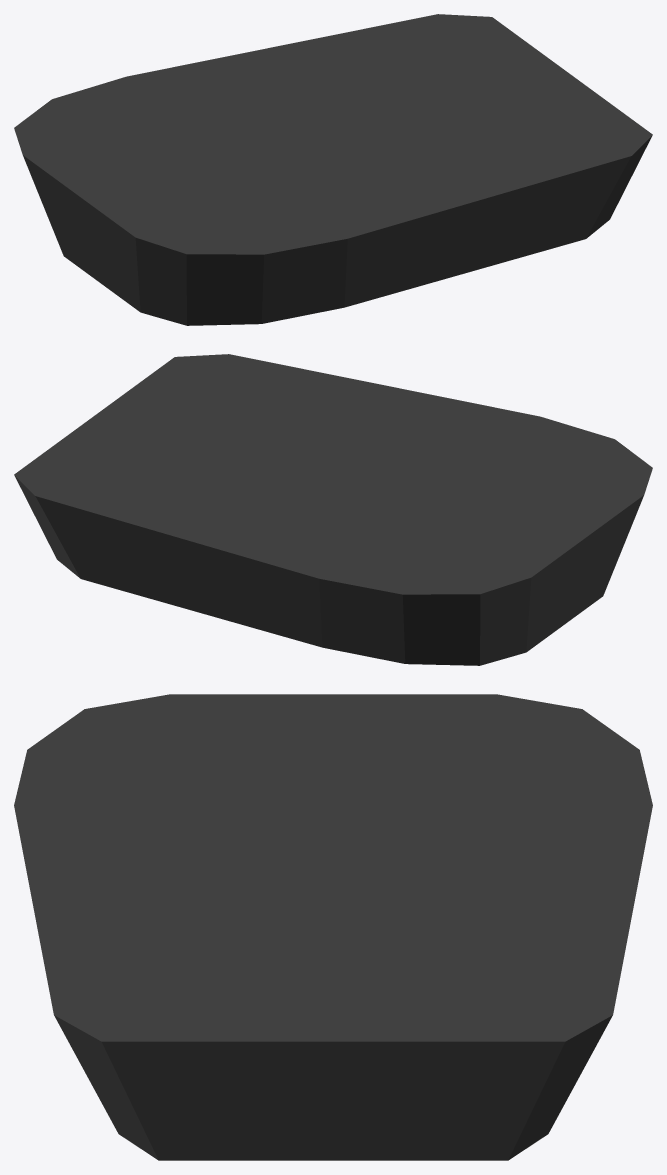
File: Exercise_Bike_Pedal_B.fbx
3 renders of one model, top to bottom at view 1: azimuth 30°, elevation 25°; view 2: azimuth 150°, elevation 25°; view 3: azimuth 270°, elevation 25°, orthographic. The views are drawn at different scales.
Parts seen in each view (by area): view 1: Exercise_Bike_Pedal_B; view 2: Exercise_Bike_Pedal_B; view 3: Exercise_Bike_Pedal_B.
Boxes of the visible parts, x1=… form: Exercise_Bike_Pedal_B: x1=14, y1=14, x2=652, y2=325; Exercise_Bike_Pedal_B: x1=14, y1=354, x2=652, y2=665; Exercise_Bike_Pedal_B: x1=14, y1=694, x2=652, y2=1160.
Size of the model in its own units: 12.6 by 2.29 by 9.8.
